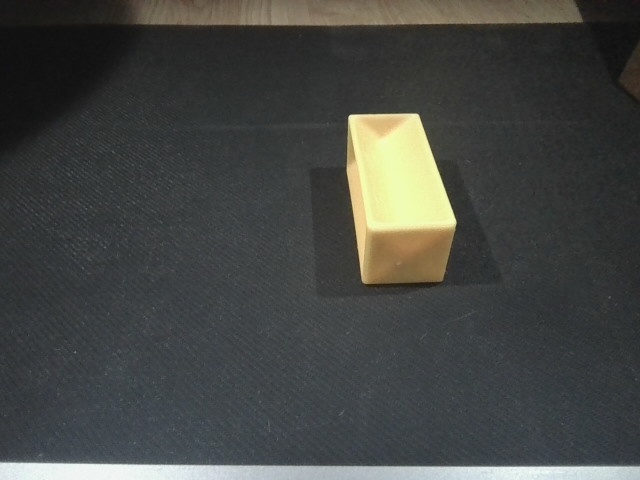YellowSample: (334, 107, 468, 291)
